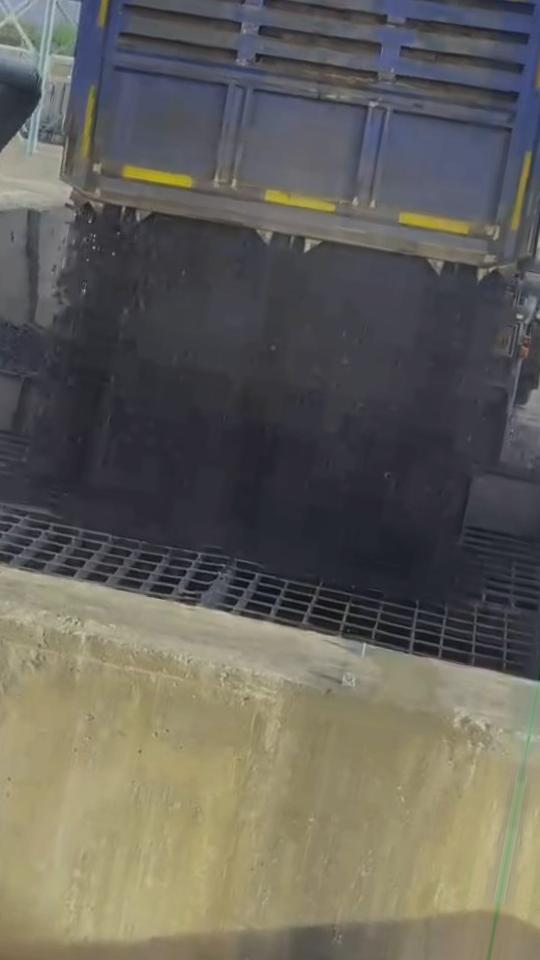gravel: (0, 207, 540, 586)
